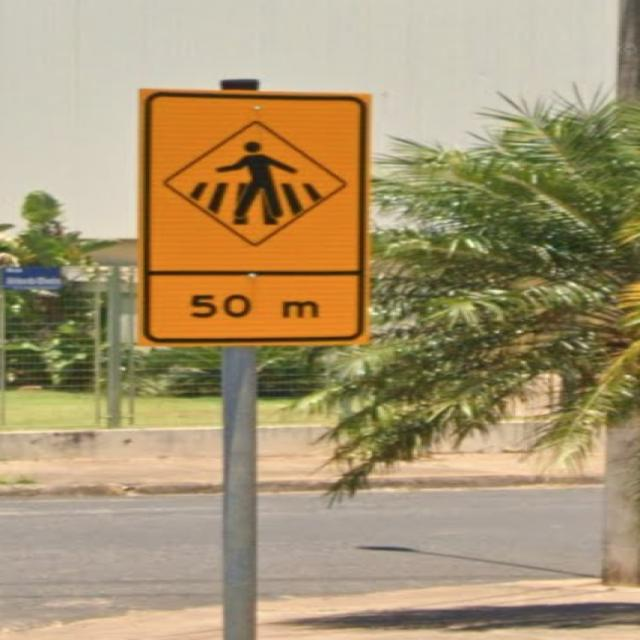pedestrian crossing: (123, 73, 398, 366)
